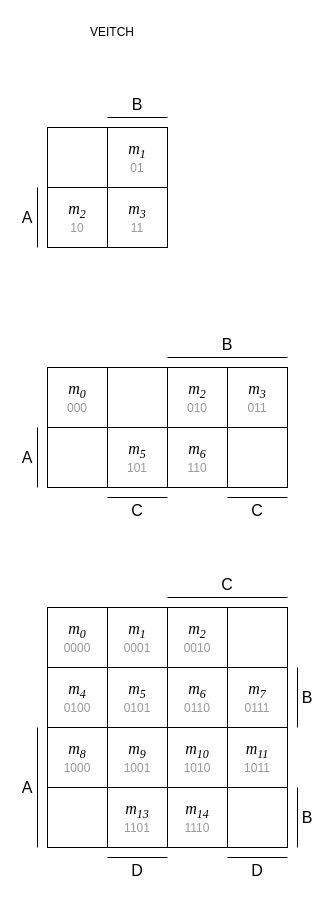
Image size: 334x902. Some labels were removed from this diagram. Here are the shapes that lost their labels. From the top down, the centre of each, then its label:
At (77,157): "m 0 00".
At (137,397): "m 1 001".
At (77,457): "m 4 100".
At (257,457): "m 7 111".
At (257,637): "m 3 0011".
At (77,817): "m 12 1100".
At (257,817): "m 15 1111".
